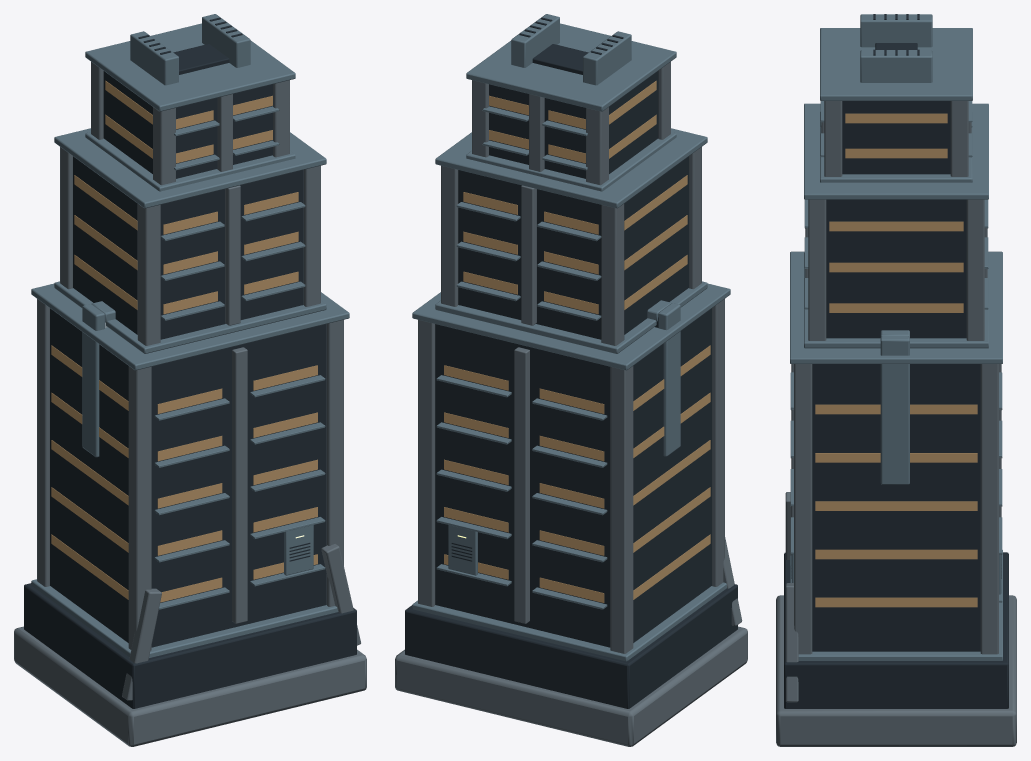
The model's file is kit-v1.glb.
3 views of the same model, side by side, from view 1: azimuth 30°, elevation 25°; view 2: azimuth 150°, elevation 25°; view 3: azimuth 270°, elevation 25° (orthographic). The views are drawn at different scales.
Parts seen in each view (by area): view 1: building-block_graphite, building-block_concrete, building-block_alloy, building-block_window, billboard-frame_alloy; view 2: building-block_graphite, building-block_concrete, building-block_alloy, building-block_window, billboard-frame_alloy; view 3: building-block_graphite, building-block_concrete, building-block_alloy, building-block_window, billboard-frame_alloy.
Boxes of the visible parts, left/top/right/bottom form: building-block_graphite: left=24, top=17, right=356, bottom=708; building-block_concrete: left=14, top=62, right=366, bottom=746; building-block_alloy: left=31, top=14, right=349, bottom=657; building-block_window: left=51, top=80, right=317, bottom=602; billboard-frame_alloy: left=82, top=301, right=115, bottom=457; building-block_graphite: left=405, top=17, right=737, bottom=708; building-block_concrete: left=395, top=62, right=747, bottom=746; building-block_alloy: left=412, top=14, right=730, bottom=661; building-block_window: left=444, top=80, right=710, bottom=602; billboard-frame_alloy: left=647, top=300, right=680, bottom=456; building-block_graphite: left=784, top=14, right=1008, bottom=708; building-block_concrete: left=776, top=101, right=1016, bottom=746; building-block_alloy: left=790, top=14, right=1002, bottom=660; building-block_window: left=815, top=113, right=977, bottom=607; billboard-frame_alloy: left=880, top=330, right=909, bottom=484.
Bounding box in the file's own units: 14 × 36 × 12.
